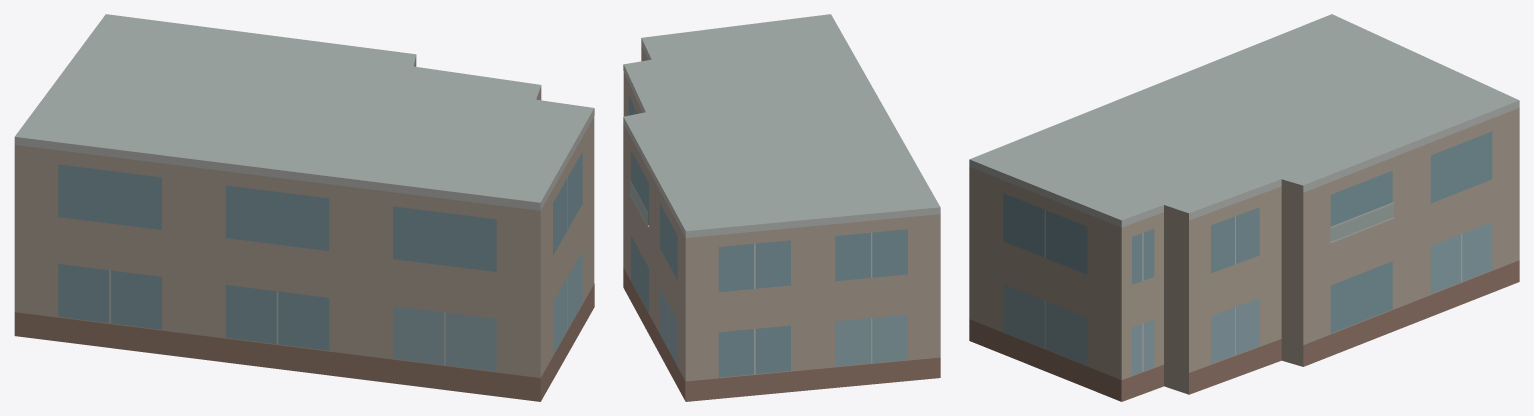
Rendered from survey-upis-32878495.glb.
The picture shows the model from 3 angles, left to right: view 1: azimuth 30°, elevation 25°; view 2: azimuth 150°, elevation 25°; view 3: azimuth 270°, elevation 25°; orthographic projection. The views are drawn at different scales.
Parts seen in each view (by area): view 1: survey-upis-32878495.tmp; view 2: survey-upis-32878495.tmp; view 3: survey-upis-32878495.tmp.
Part boxes in pixels (x1=…): survey-upis-32878495.tmp: x1=14, y1=14, x2=594, y2=401; survey-upis-32878495.tmp: x1=623, y1=14, x2=940, y2=401; survey-upis-32878495.tmp: x1=969, y1=14, x2=1519, y2=401.
Bounding box in the file's own units: 14.9 × 6.1 × 16.78.
